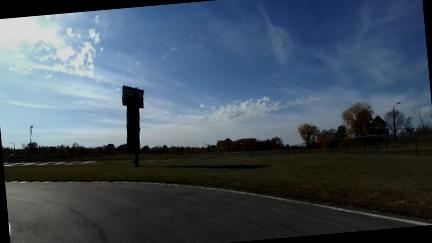Grass: (4, 154, 431, 219)
Lane: (5, 182, 420, 242)
